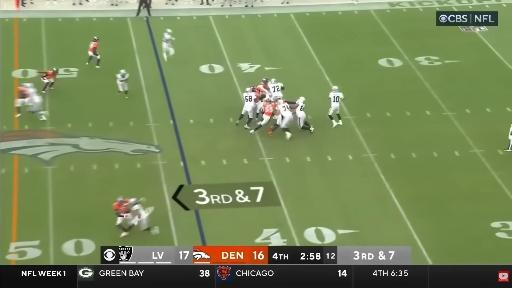Helmet: (128, 198, 138, 205), (117, 196, 125, 202), (278, 83, 284, 90), (26, 83, 34, 88), (52, 68, 59, 73), (298, 97, 305, 102), (22, 83, 30, 87), (332, 86, 338, 91), (262, 78, 268, 83), (264, 98, 271, 102), (94, 37, 99, 42), (28, 83, 34, 87), (278, 100, 284, 104), (166, 29, 171, 33), (246, 88, 251, 92), (251, 87, 256, 91), (271, 79, 276, 83), (120, 70, 126, 73)
Jersey: (113, 201, 130, 214), (329, 92, 343, 106), (269, 83, 282, 98), (263, 102, 276, 116), (278, 103, 291, 116), (243, 92, 256, 105), (256, 83, 269, 96), (129, 199, 142, 210), (18, 87, 29, 99), (116, 73, 129, 83), (296, 102, 305, 115), (163, 33, 172, 45), (42, 71, 55, 79), (89, 42, 98, 52), (509, 126, 511, 139)
Player: (269, 100, 293, 139), (250, 99, 276, 133), (113, 197, 134, 237), (236, 87, 256, 129), (26, 84, 47, 120), (129, 198, 151, 230), (328, 86, 343, 127), (296, 97, 313, 132), (37, 68, 58, 93), (15, 84, 29, 117), (87, 37, 100, 67), (268, 79, 284, 101), (163, 29, 174, 61), (116, 70, 129, 97), (255, 78, 269, 99), (504, 124, 511, 151)
